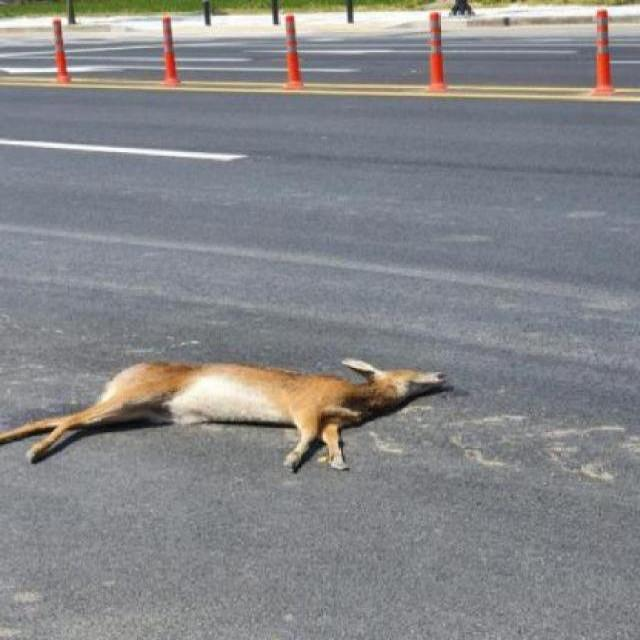deer: (0, 354, 457, 470)
